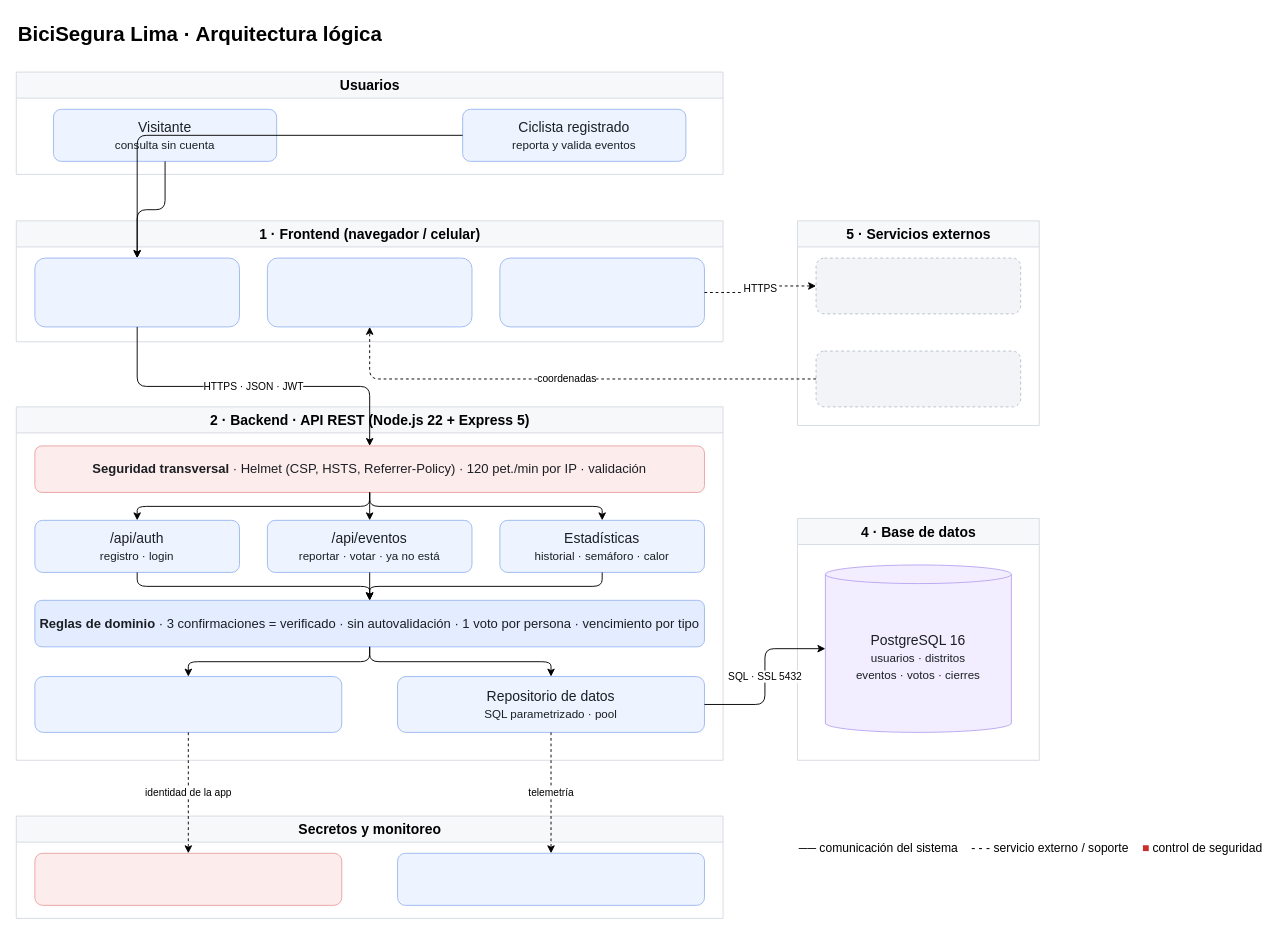
The diagram is 1279 pixels wide and 935 high, and some of its shapes have lost their labels. The shapes that lost their labels are listed below. From the top down, each one's centre as x and y in pixels, then its label:
pixel 136 292: App web HTML · CSS · JS Mapa · Riesgo · Estadísticas
pixel 369 292: Cerca de mí distancia en el navegador (ubicación no se envía)
pixel 601 292: Leaflet + leaflet.heat mapa y mapa de calor
pixel 918 285: OpenStreetMap mosaicos del mapa
pixel 918 378: Geolocalización del navegador (con permiso)
pixel 188 704: 3 · Autenticación bcrypt · JWT 8 h · Bearer
pixel 188 878: Gestor de secretos DATABASE_URL · JWT_SECRET
pixel 550 878: Monitoreo (APM) peticiones · errores · alerta 5xx
